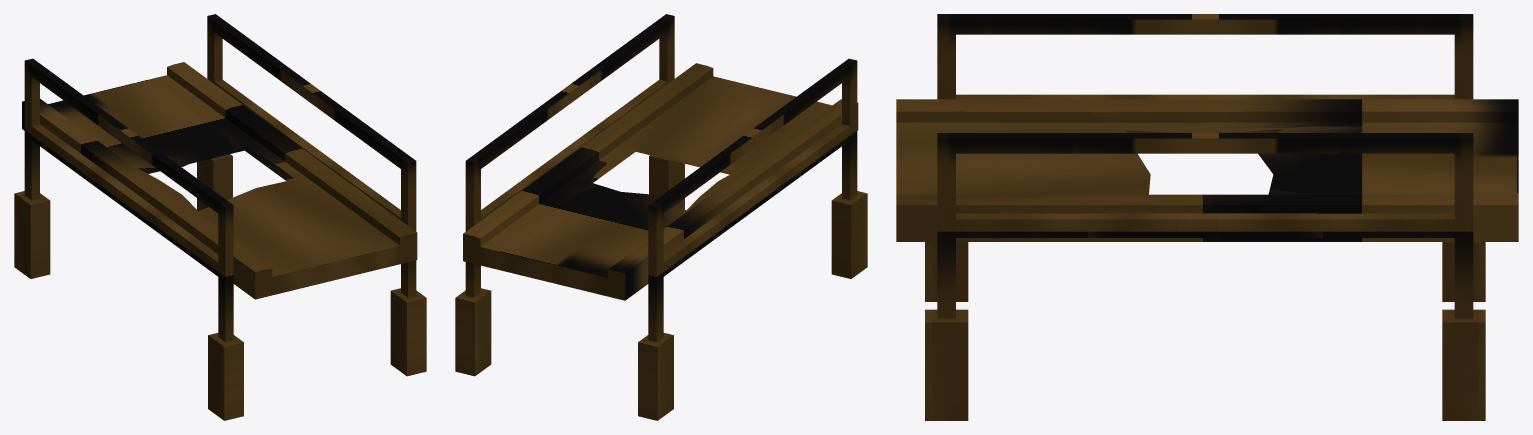
File: jembatan bolong.fbx
The picture shows the model from 3 angles, left to right: view 1: azimuth 30°, elevation 25°; view 2: azimuth 150°, elevation 25°; view 3: azimuth 270°, elevation 25°; orthographic projection. The views are drawn at different scales.
Parts seen in each view (by area): view 1: Cube.021, Cube.030; view 2: Cube.021, Cube.030; view 3: Cube.030, Cube.021.
Boxes of the visible parts, x1,y1,x2,y2 form: Cube.021: (22,62,417,299); Cube.030: (14,14,426,420); Cube.021: (463,63,858,300); Cube.030: (455,14,867,420); Cube.030: (925,14,1485,420); Cube.021: (896,99,1518,241).
Bounding box in the file's own units: 1438 × 1419 × 2870.
